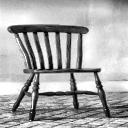chair_success: (4, 22, 117, 123)
